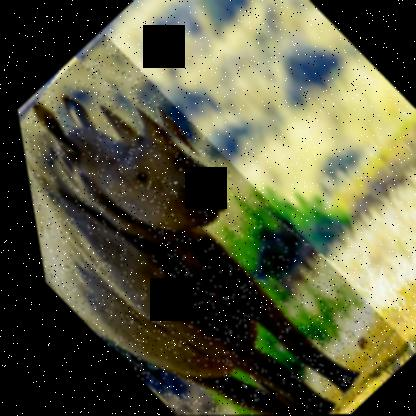Diceros bicornis: (4, 31, 409, 415)
